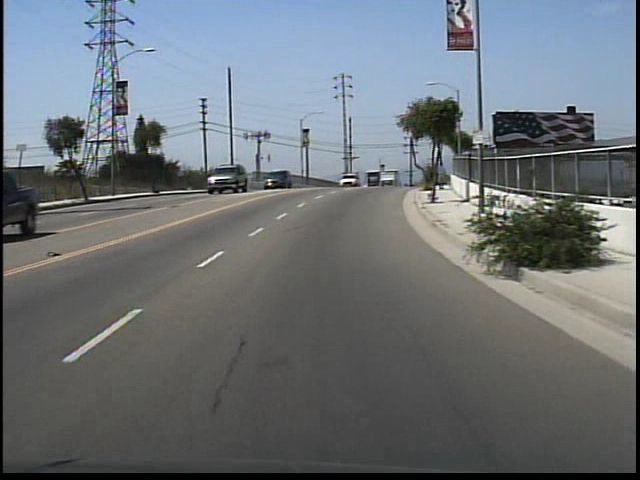person: (438, 161, 448, 193)
